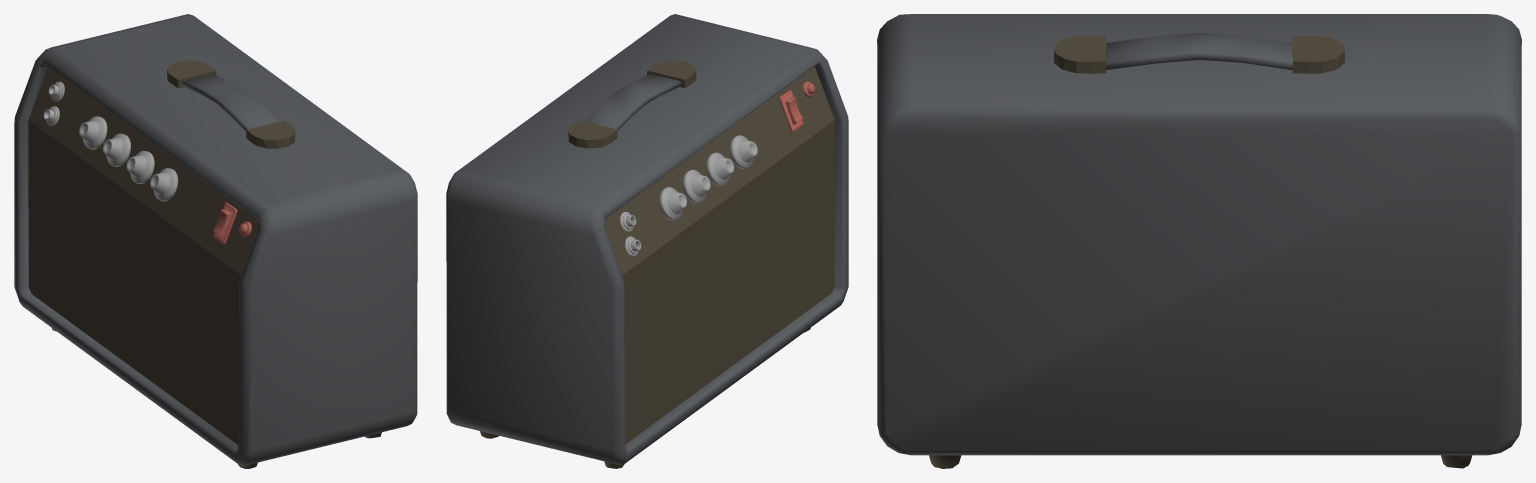
File: radioModel.fbx
The picture shows the model from 3 angles, left to right: view 1: azimuth 30°, elevation 25°; view 2: azimuth 150°, elevation 25°; view 3: azimuth 270°, elevation 25°; orthographic projection. The views are drawn at different scales.
Visible parts, largest first — view 1: Cube, Cube.001, Cube.002, Circle.002, Plane, Circle, Plane.001; view 2: Cube, Cube.001, Cube.002, Circle.002, Plane, Circle, Plane.001; view 3: Cube, Plane, Circle, Cylinder.001.
Part boxes in pixels (x1=…): Cube: x1=14, y1=14, x2=417, y2=465; Cube.001: x1=28, y1=121, x2=240, y2=444; Cube.002: x1=28, y1=66, x2=258, y2=275; Circle.002: x1=79, y1=116, x2=178, y2=201; Plane: x1=182, y1=74, x2=278, y2=131; Circle: x1=167, y1=60, x2=295, y2=148; Plane.001: x1=213, y1=202, x2=237, y2=244; Cube: x1=446, y1=14, x2=848, y2=464; Cube.001: x1=622, y1=120, x2=834, y2=444; Cube.002: x1=605, y1=66, x2=834, y2=275; Circle.002: x1=659, y1=135, x2=757, y2=220; Plane: x1=585, y1=74, x2=680, y2=130; Circle: x1=568, y1=60, x2=696, y2=148; Plane.001: x1=779, y1=90, x2=803, y2=132; Cube: x1=877, y1=14, x2=1521, y2=455; Plane: x1=1106, y1=32, x2=1292, y2=70; Circle: x1=1054, y1=35, x2=1344, y2=73; Cylinder.001: x1=929, y1=455, x2=1472, y2=468.
Bounding box in the file's own units: 200 × 309 × 463.
